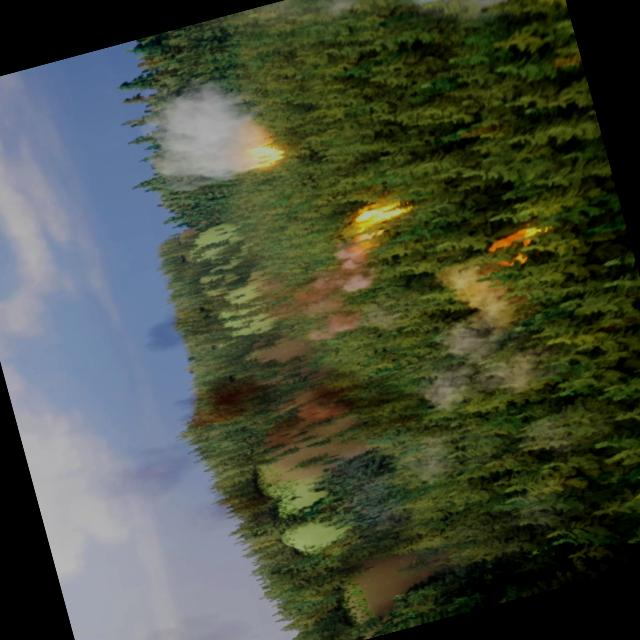fire: (470, 208, 568, 272), (338, 188, 418, 242), (244, 136, 286, 170)
smoke: (389, 261, 538, 414), (124, 73, 274, 198), (293, 0, 563, 63), (260, 232, 402, 349)
